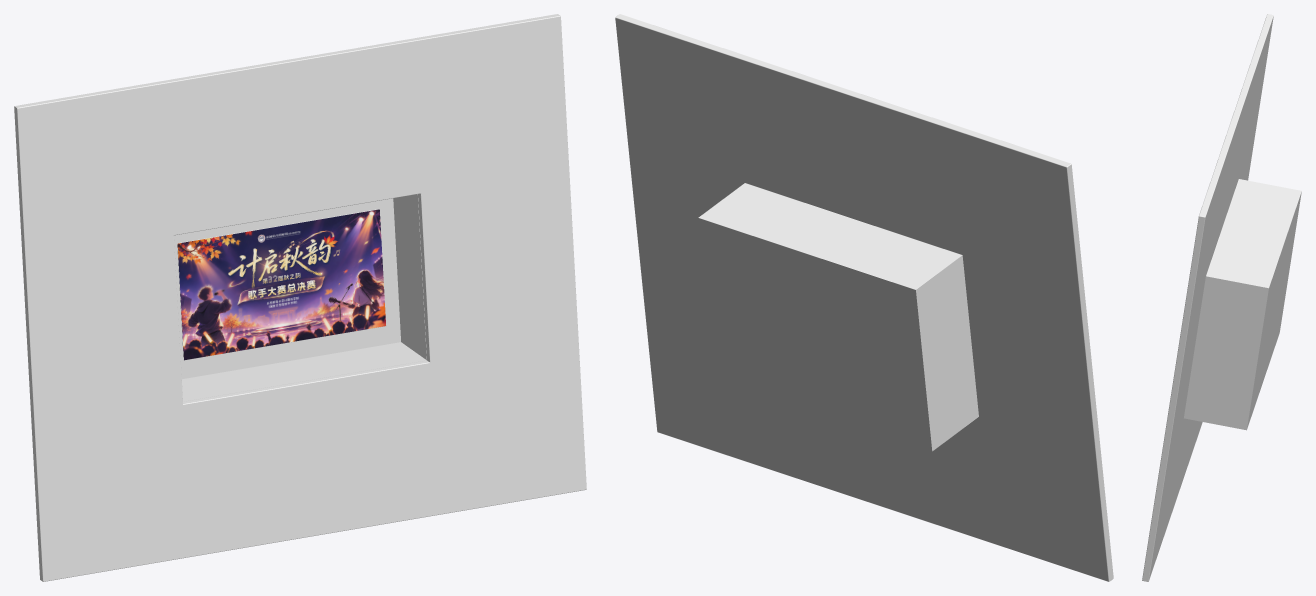
The picture shows the model from 3 angles, left to right: view 1: azimuth 30°, elevation 25°; view 2: azimuth 150°, elevation 25°; view 3: azimuth 270°, elevation 25°; orthographic projection. The views are drawn at different scales.
Visible parts, largest first — view 1: Building facade · continuous solid wall with excavated openi, Original poster · complete unmodified rectangle, Excavated room · REAR wall, Excavated room · FLOOR, Excavated room · RIGHT wall; view 2: Building facade · continuous solid wall with excavated openi, Excavated room · REAR wall, Excavated room · CEILING, Excavated room · LEFT wall, Excavated room · FLOOR, Excavated room · RIGHT wall; view 3: Building facade · continuous solid wall with excavated openi, Excavated room · RIGHT wall, Excavated room · CEILING, Excavated room · REAR wall, Excavated room · LEFT wall.
Part boxes in pixels (x1,y1,x2,y2): Building facade · continuous solid wall with excavated openi: [14, 14, 586, 581]; Original poster · complete unmodified rectangle: [177, 209, 385, 360]; Excavated room · REAR wall: [174, 198, 400, 379]; Excavated room · FLOOR: [182, 342, 426, 401]; Excavated room · RIGHT wall: [393, 194, 426, 359]; Building facade · continuous solid wall with excavated openi: [615, 14, 1113, 581]; Excavated room · REAR wall: [705, 227, 924, 442]; Excavated room · CEILING: [704, 185, 955, 294]; Excavated room · LEFT wall: [909, 253, 978, 451]; Excavated room · FLOOR: [720, 374, 925, 449]; Excavated room · RIGHT wall: [698, 183, 750, 381]; Building facade · continuous solid wall with excavated openi: [1142, 14, 1273, 581]; Excavated room · RIGHT wall: [1184, 273, 1269, 430]; Excavated room · CEILING: [1207, 182, 1300, 290]; Excavated room · REAR wall: [1249, 201, 1299, 419]; Excavated room · LEFT wall: [1238, 179, 1301, 334].
Bounding box in the file's own units: 22.74 × 19 × 7.45.
8 materials, 1 textured.
